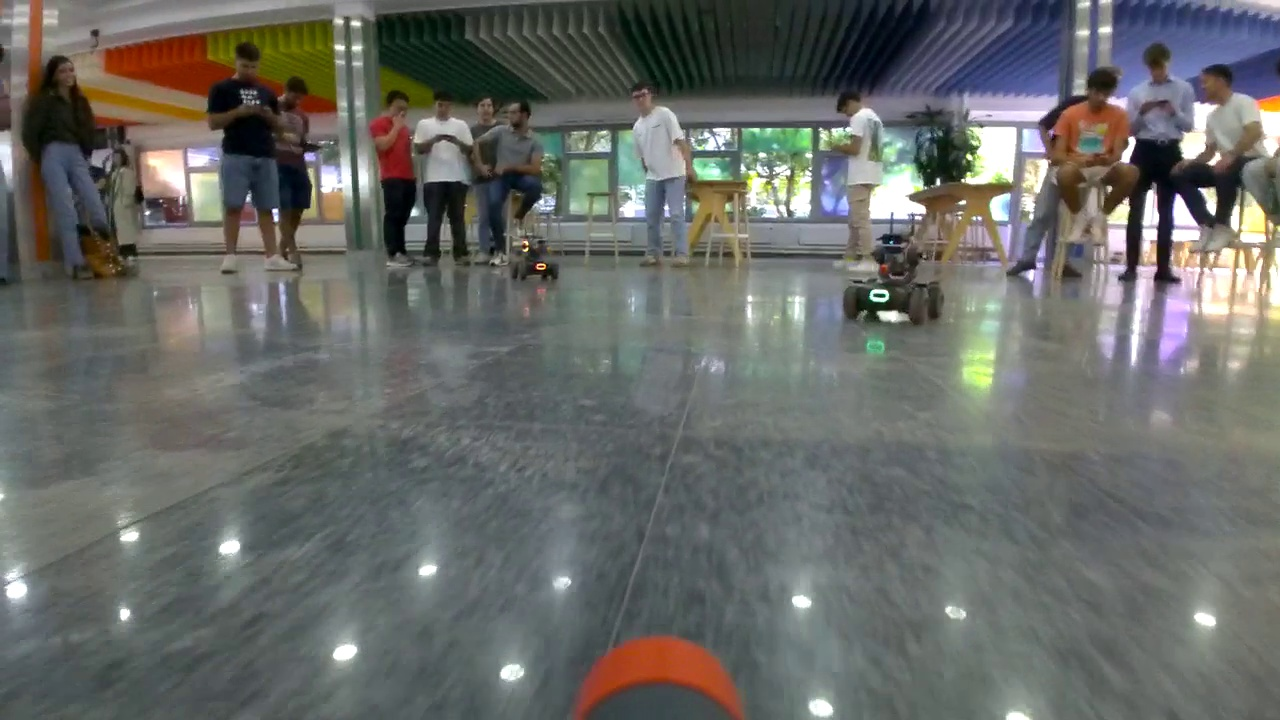robot: (842, 207, 942, 323), (509, 231, 560, 282)
